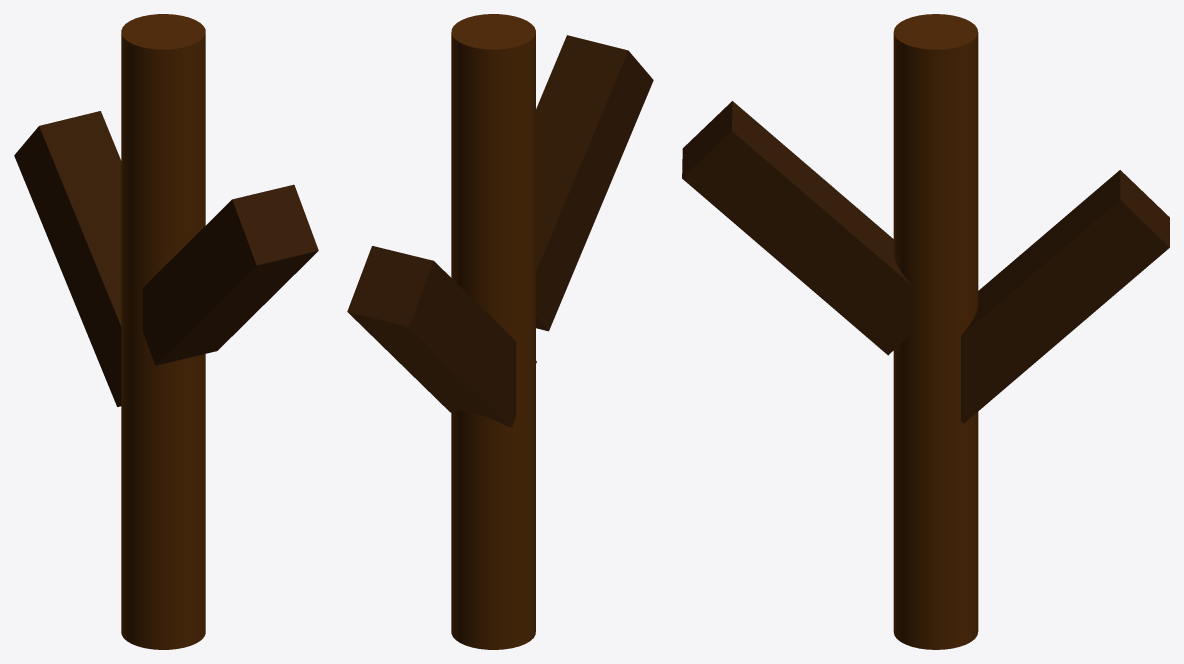
File: stick.fbx
3 renders of one model, left to right at view 1: azimuth 30°, elevation 25°; view 2: azimuth 150°, elevation 25°; view 3: azimuth 270°, elevation 25°, orthographic.
Visible parts, largest first — view 1: Cylinder, Cube.002, Cube.001; view 2: Cylinder, Cube.002, Cube.001; view 3: Cylinder, Cube.002, Cube.001.
Part boxes in pixels (bbox=[...]): Cylinder: bbox=[121, 14, 205, 649]; Cube.002: bbox=[142, 184, 318, 365]; Cube.001: bbox=[14, 111, 142, 406]; Cylinder: bbox=[451, 14, 535, 649]; Cube.002: bbox=[536, 35, 653, 331]; Cube.001: bbox=[347, 246, 536, 427]; Cylinder: bbox=[893, 14, 978, 649]; Cube.002: bbox=[682, 101, 911, 355]; Cube.001: bbox=[961, 170, 1169, 423].
Size of the model in its own units: 48.17 by 376 by 277.
